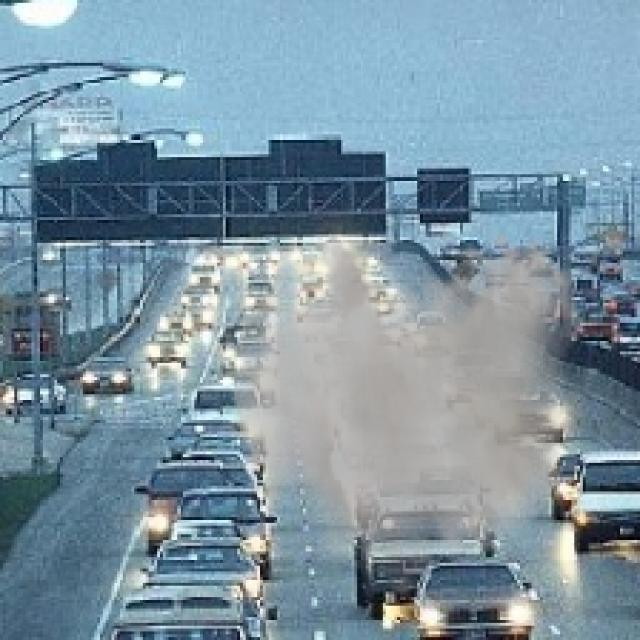Smoke: (235, 228, 580, 608)
